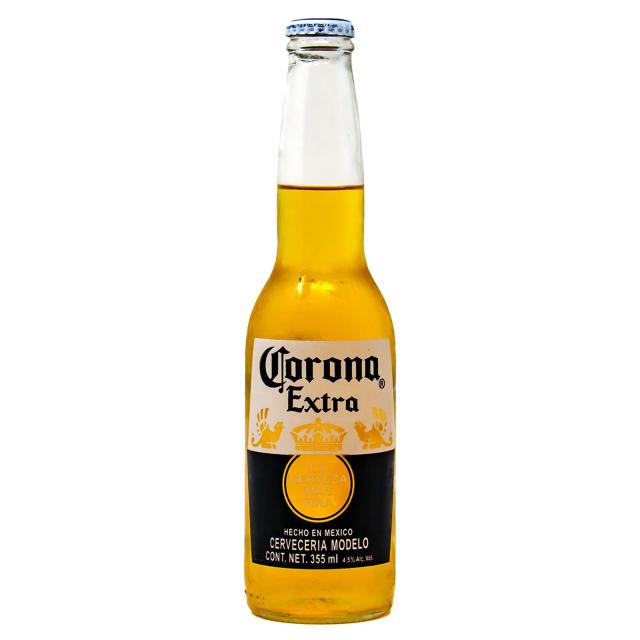Bottle: (233, 9, 409, 626)
